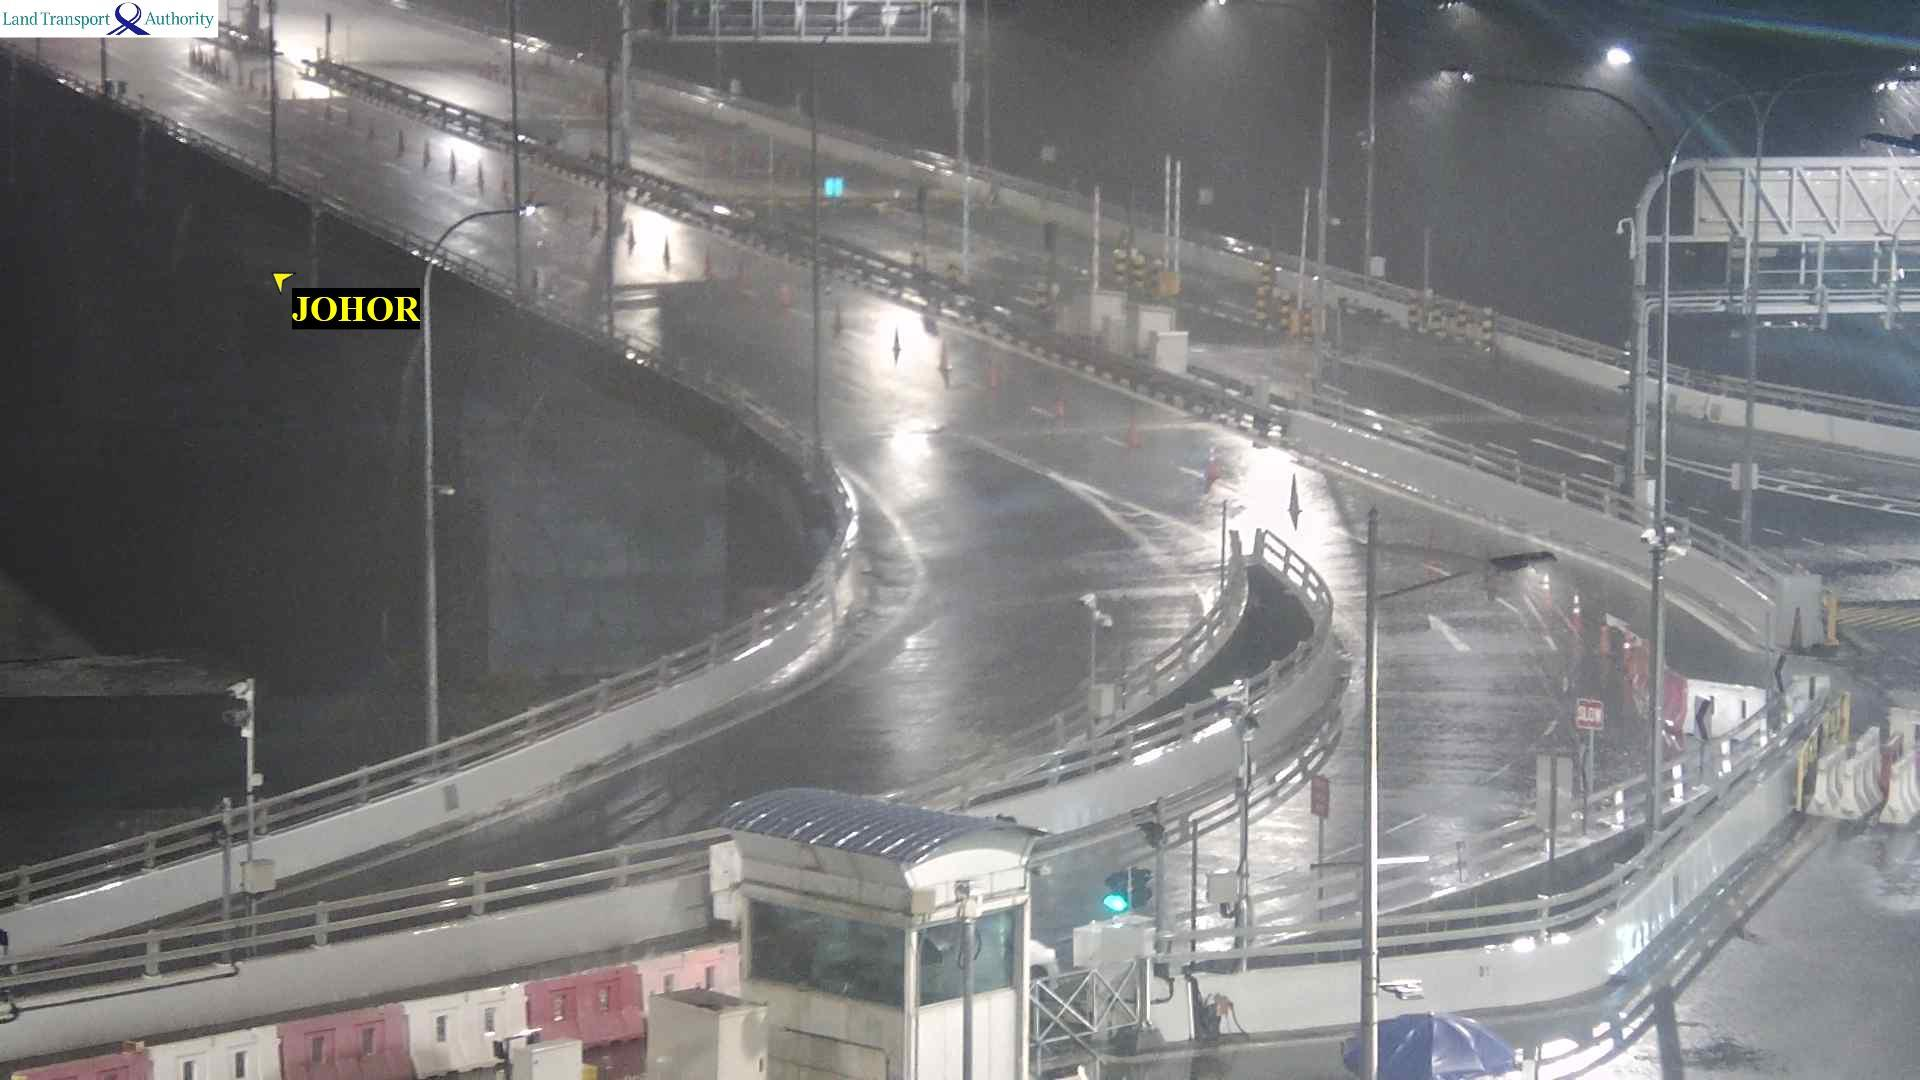vehicle-secondlink-johor: (827, 170, 846, 197)
